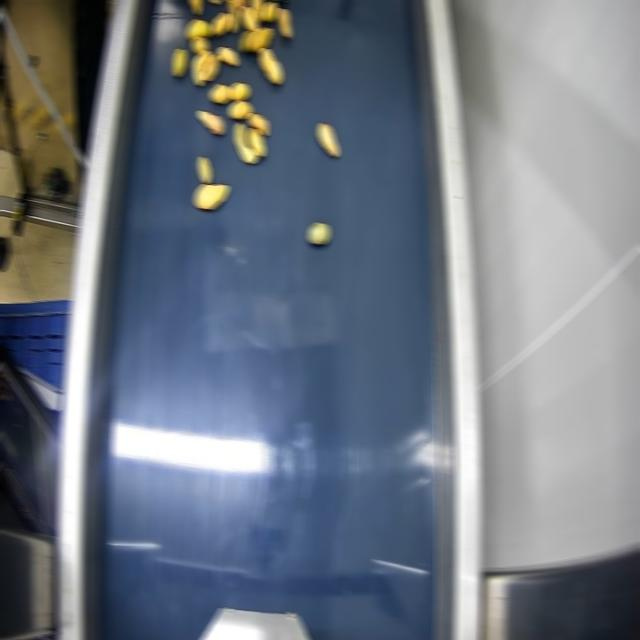Baby Potato: (236, 122, 257, 163), (195, 184, 228, 209), (260, 48, 281, 84), (193, 51, 212, 86), (319, 123, 338, 157), (198, 112, 223, 135), (248, 28, 271, 52), (186, 20, 211, 40), (247, 128, 264, 156), (308, 222, 329, 244), (202, 55, 219, 81), (212, 13, 231, 36), (248, 112, 267, 135), (277, 8, 290, 39), (210, 84, 231, 103), (230, 100, 251, 119), (241, 8, 258, 31), (217, 47, 238, 65), (173, 48, 186, 77), (230, 82, 249, 101), (191, 37, 208, 55), (199, 156, 210, 183), (229, 0, 238, 32), (263, 0, 276, 22), (240, 31, 253, 52), (252, 0, 263, 23), (190, 0, 201, 15), (236, 0, 247, 9), (211, 0, 220, 4)
